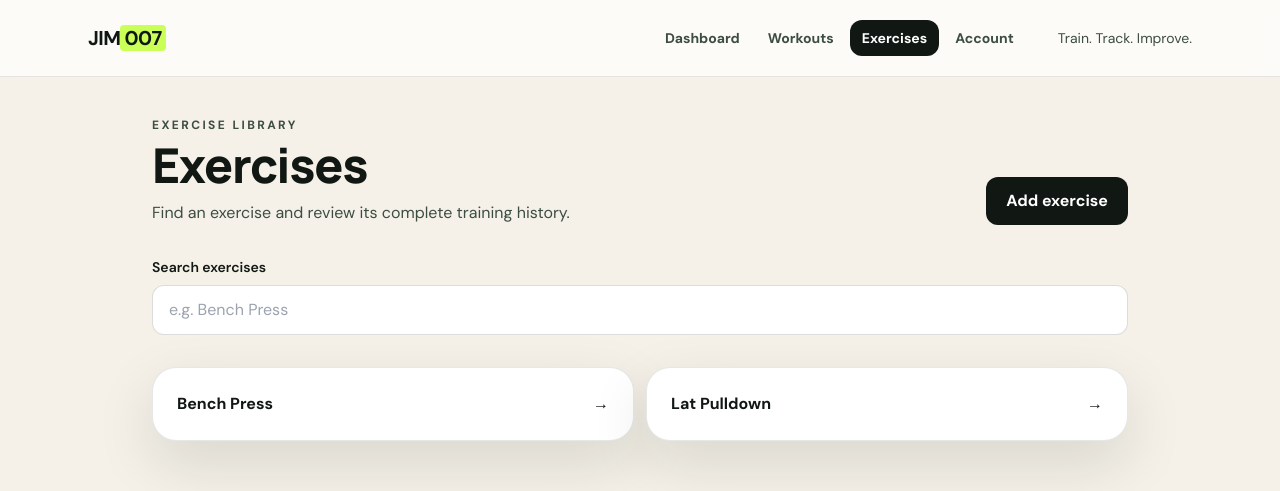
Test: authentication and optional integrations › filters the exercise directory
Type "lat" into the search field labelled "Search exercises".
click(640, 310); type("lat")  # box [152, 285, 1128, 335]
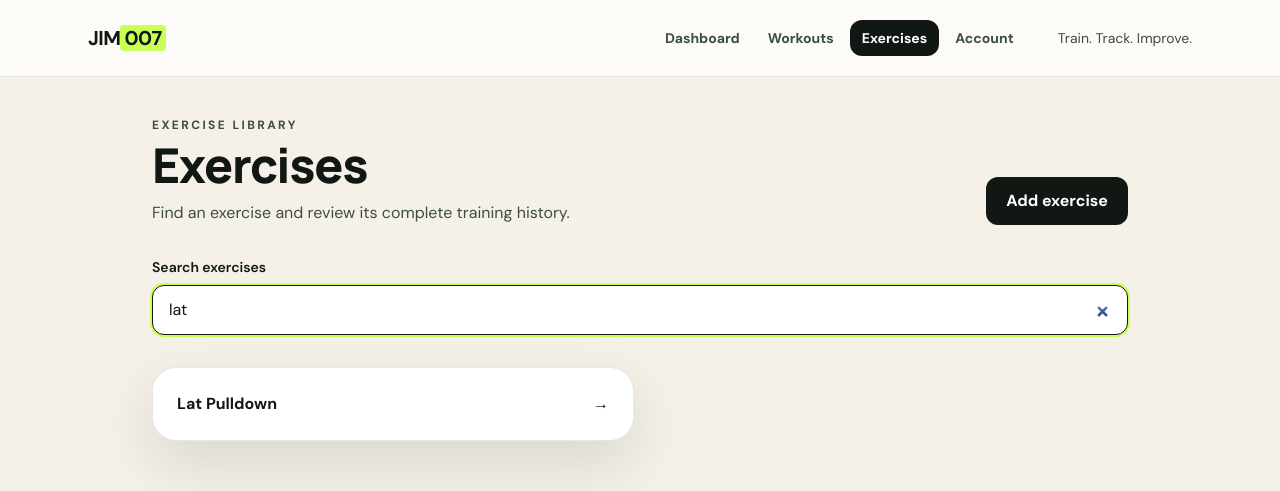
Expected: the link "Lat Pulldown →" is shown, [152, 367, 634, 441]
Result: the link "Bench Press" is gone
